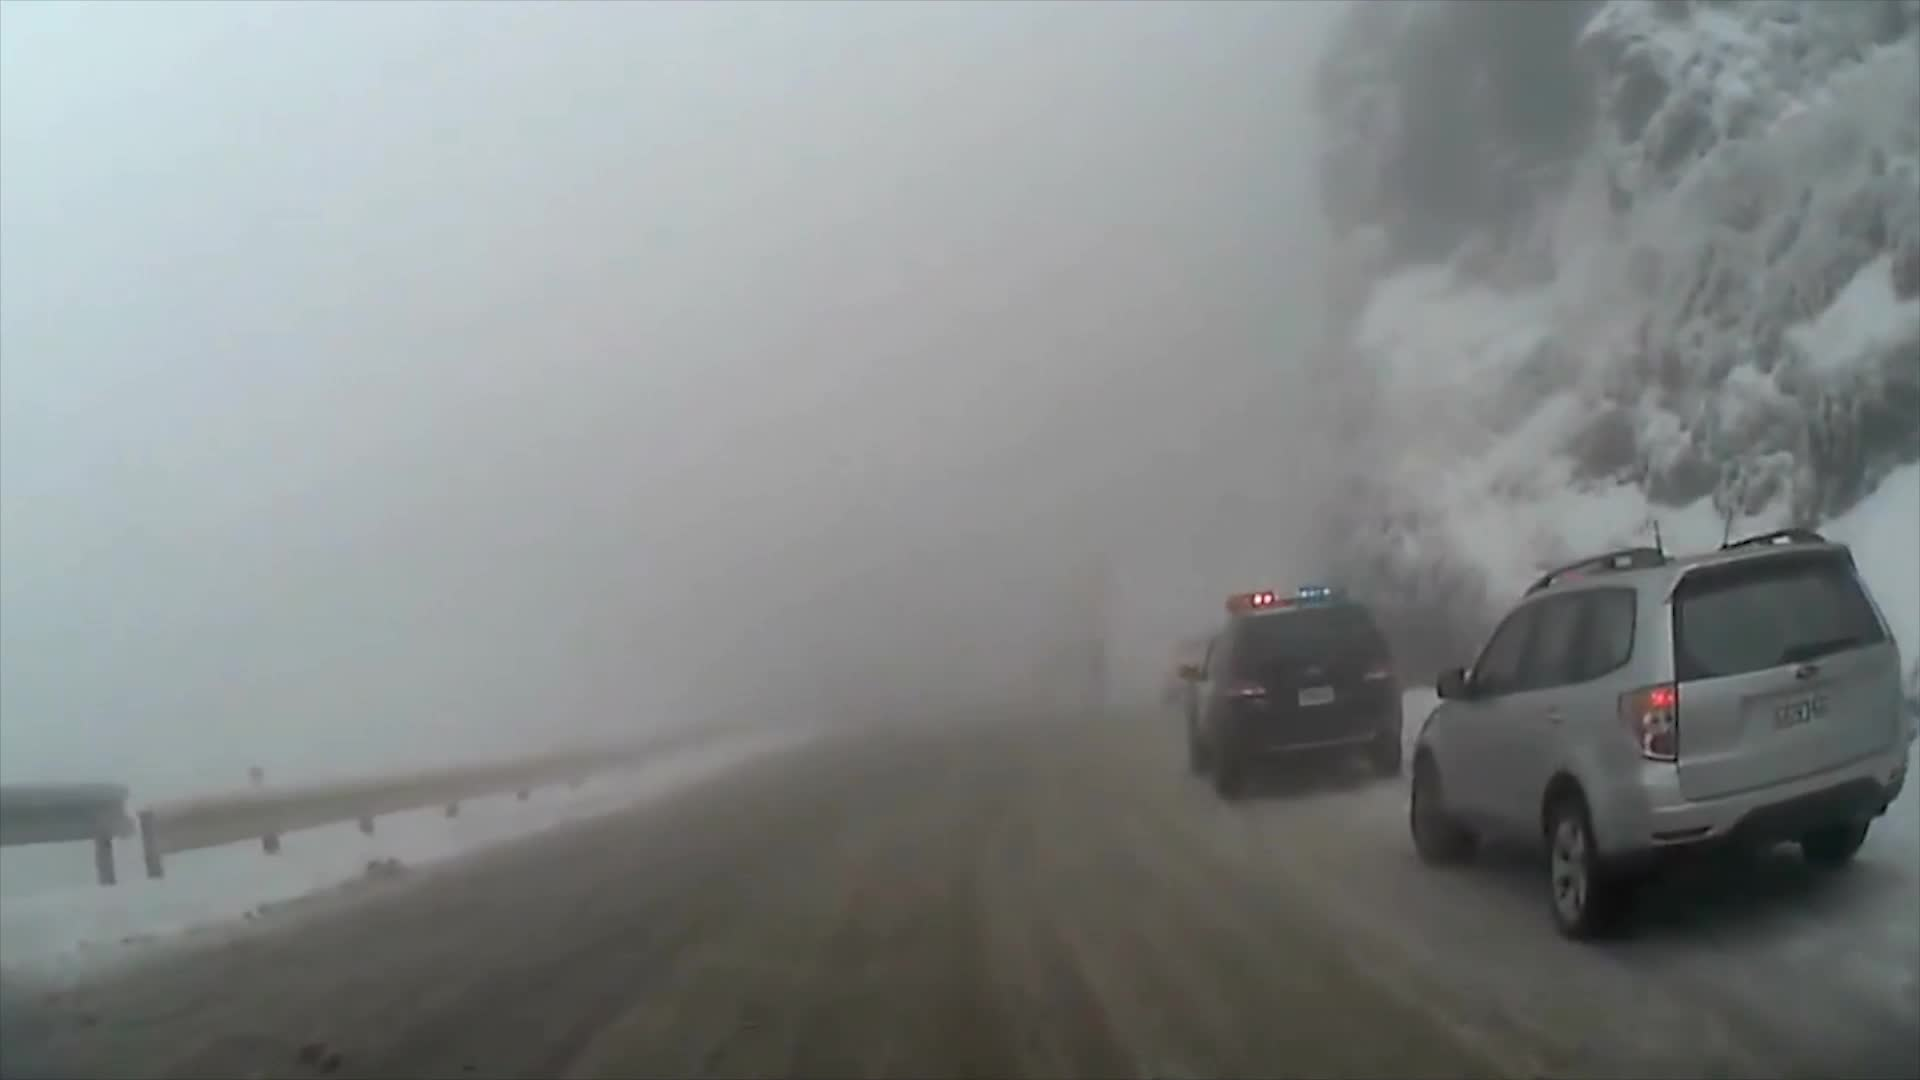vehicle: (1406, 525, 1911, 942), (1178, 582, 1404, 799)
